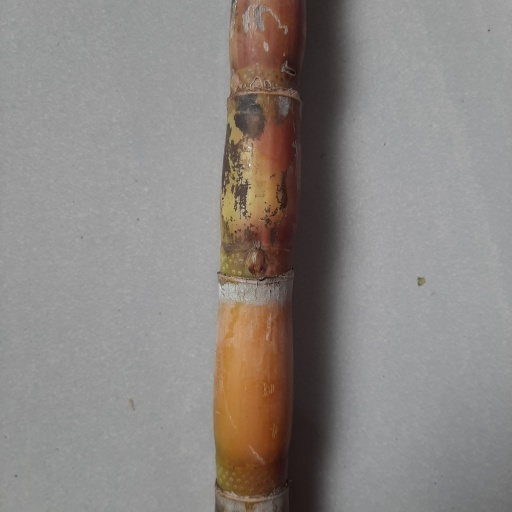Bud: (243, 247, 270, 279)
